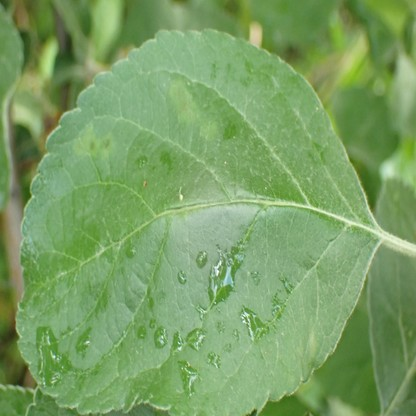scab: (169, 81, 199, 123), (76, 134, 116, 159), (200, 123, 219, 142), (308, 334, 316, 362)
